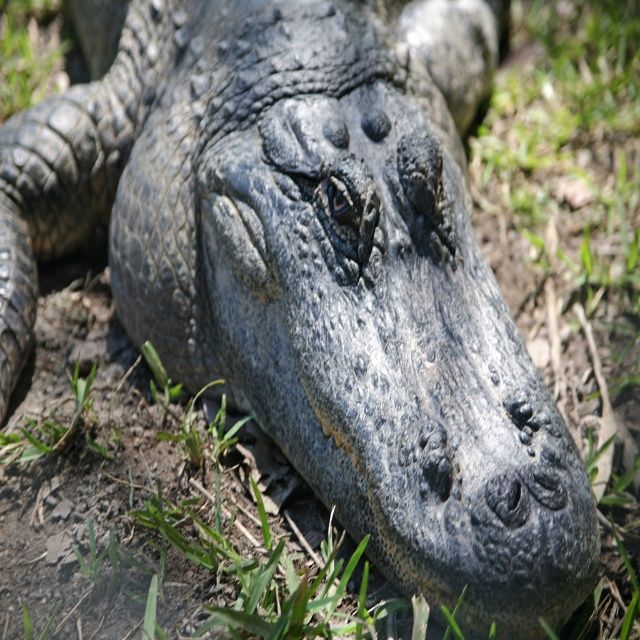Crocodile: (0, 0, 602, 640)
